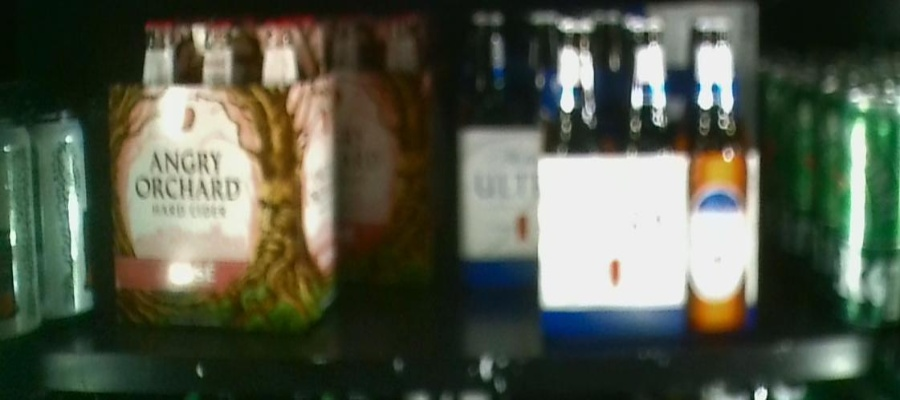bottle: (107, 16, 334, 326), (549, 17, 764, 331)
